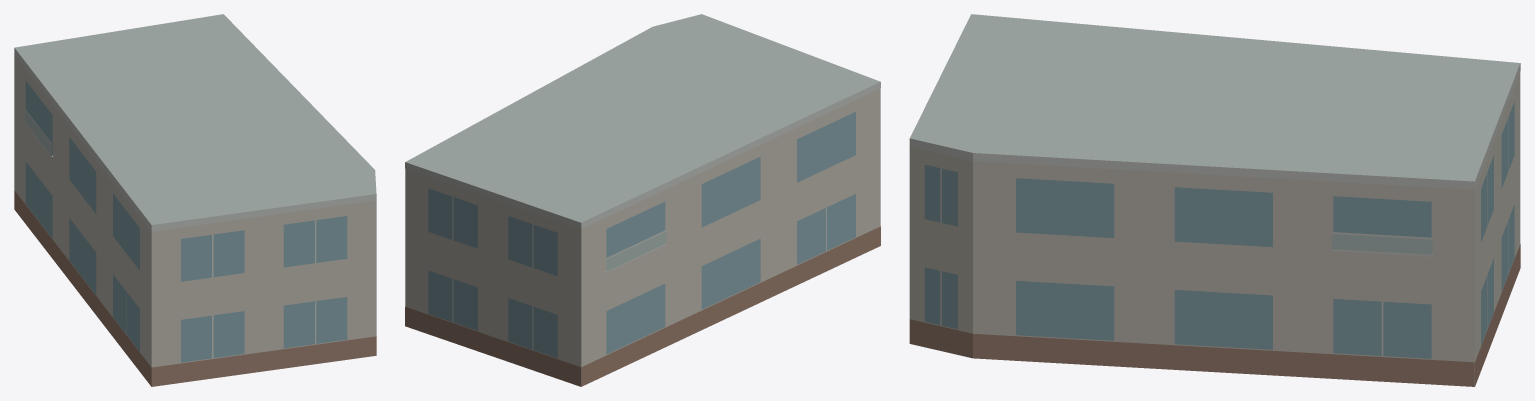
Rendered from survey-upis-32614363.glb.
3 views of the same model, side by side, from view 1: azimuth 30°, elevation 25°; view 2: azimuth 150°, elevation 25°; view 3: azimuth 270°, elevation 25° (orthographic). The views are drawn at different scales.
Visible parts, largest first — view 1: survey-upis-32614363.tmp; view 2: survey-upis-32614363.tmp; view 3: survey-upis-32614363.tmp.
Part boxes in pixels (x1,y1,x2,y2): survey-upis-32614363.tmp: (14, 14, 376, 386); survey-upis-32614363.tmp: (405, 14, 880, 386); survey-upis-32614363.tmp: (909, 14, 1520, 386).
Bounding box in the file's own units: 10.68 × 6.1 × 16.45.
